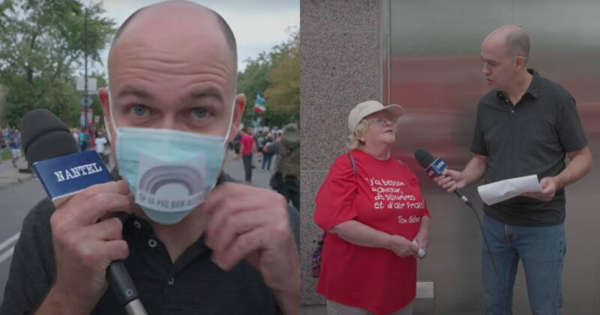with_mask: (101, 74, 254, 205)
without_mask: (476, 46, 526, 93), (356, 109, 400, 152)
